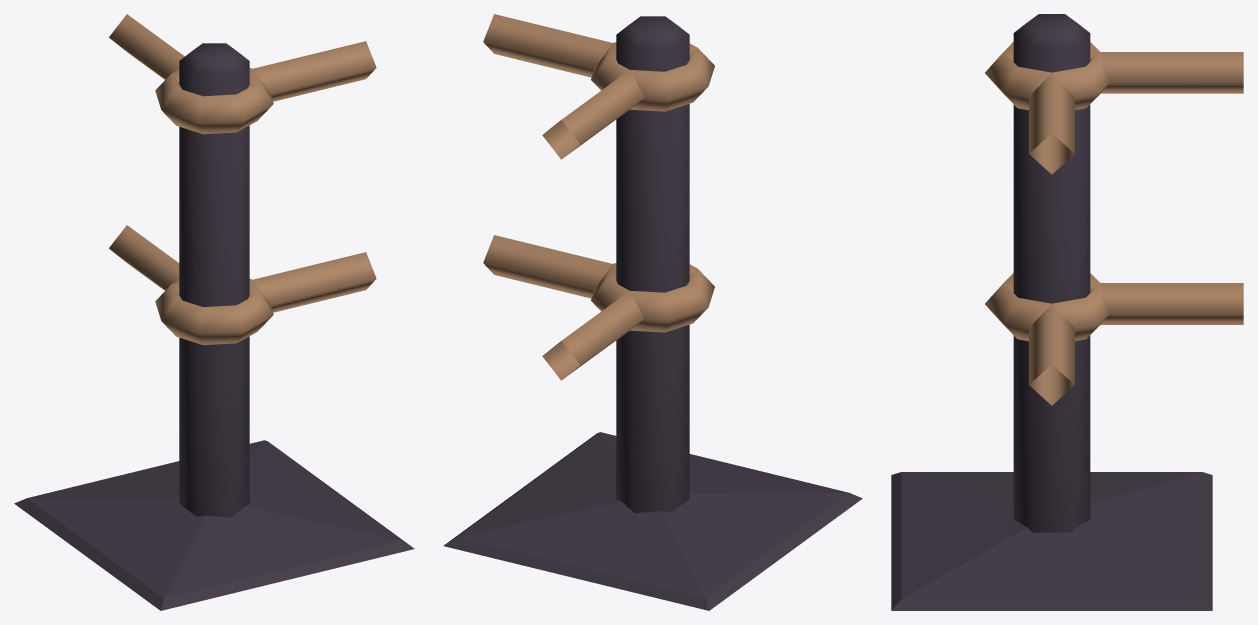
File: CA_087_088_089_090_railing_corner.glb
The picture shows the model from 3 angles, left to right: view 1: azimuth 30°, elevation 25°; view 2: azimuth 150°, elevation 25°; view 3: azimuth 270°, elevation 25°; orthographic projection. The views are drawn at different scales.
Parts seen in each view (by area): view 1: base, Pole.001, Knots.001, Ropes.002, Ropes.001; view 2: base, Pole.001, Ropes.002, Knots.001, Ropes.001; view 3: base, Pole.001, Ropes.001, Ropes.002, Knots.001.
Part boxes in pixels (x1,y1,x2,y2): base: [14, 440, 414, 610]; Pole.001: [179, 43, 249, 517]; Knots.001: [155, 68, 273, 345]; Ropes.002: [253, 41, 376, 312]; Ropes.001: [109, 14, 184, 290]; base: [443, 432, 862, 610]; Pole.001: [616, 16, 689, 512]; Ropes.002: [483, 14, 612, 298]; Knots.001: [591, 42, 714, 332]; Ropes.001: [542, 70, 644, 380]; base: [891, 472, 1212, 610]; Pole.001: [1013, 14, 1090, 532]; Ropes.001: [1100, 52, 1243, 324]; Ropes.002: [1029, 73, 1074, 405]; Knots.001: [985, 42, 1109, 341].
Bounding box in the file's own units: 0.6892 × 1.12 × 0.6892.
